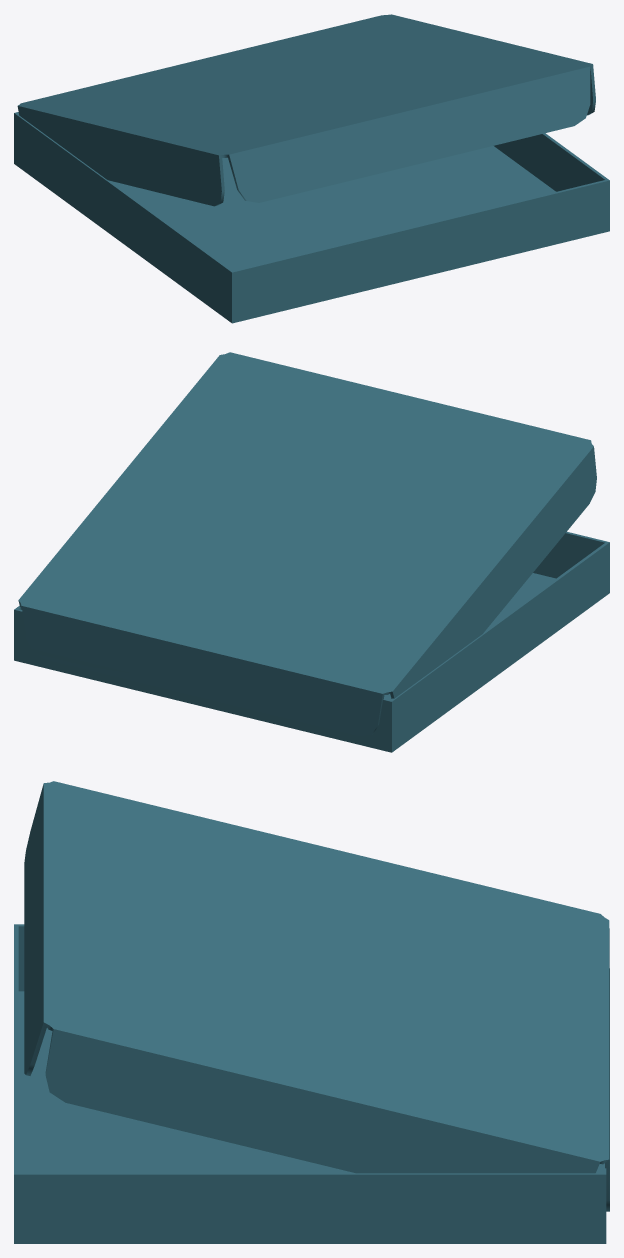
The model's file is SM_SmallTrashkit_PizzaBox_002.fbx.
3 views of the same model, one above another, from view 1: azimuth 30°, elevation 25°; view 2: azimuth 150°, elevation 25°; view 3: azimuth 270°, elevation 25° (orthographic). The views are drawn at different scales.
Visible parts, largest first — view 1: SM_SmallTrashkit_PizzaBox_002; view 2: SM_SmallTrashkit_PizzaBox_002; view 3: SM_SmallTrashkit_PizzaBox_002.
Boxes of the visible parts, x1=… form: SM_SmallTrashkit_PizzaBox_002: x1=14, y1=14, x2=609, y2=323; SM_SmallTrashkit_PizzaBox_002: x1=14, y1=352, x2=609, y2=752; SM_SmallTrashkit_PizzaBox_002: x1=14, y1=781, x2=609, y2=1243.
Bounding box in the file's own units: 40.64 × 16.33 × 40.89.
